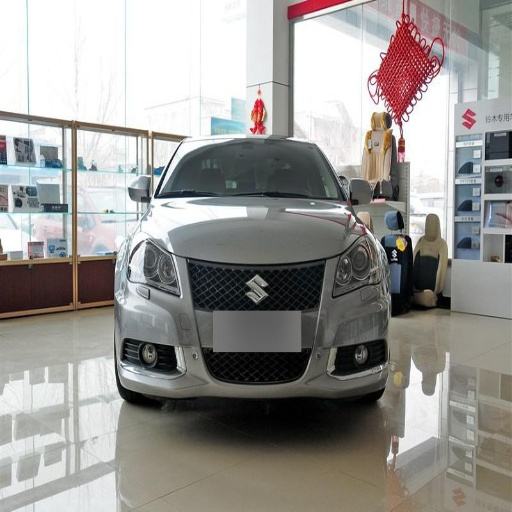front_bumper: (116, 254, 389, 397)
front_right_light: (119, 236, 180, 295)
hood: (144, 198, 365, 262)
